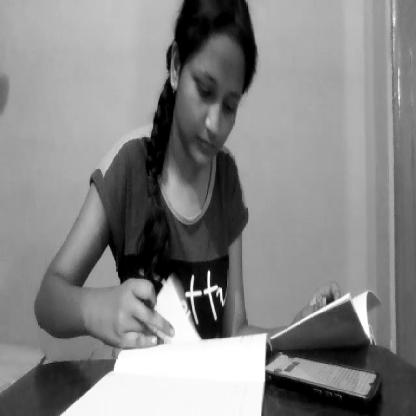Distracted: (162, 0, 262, 179)
